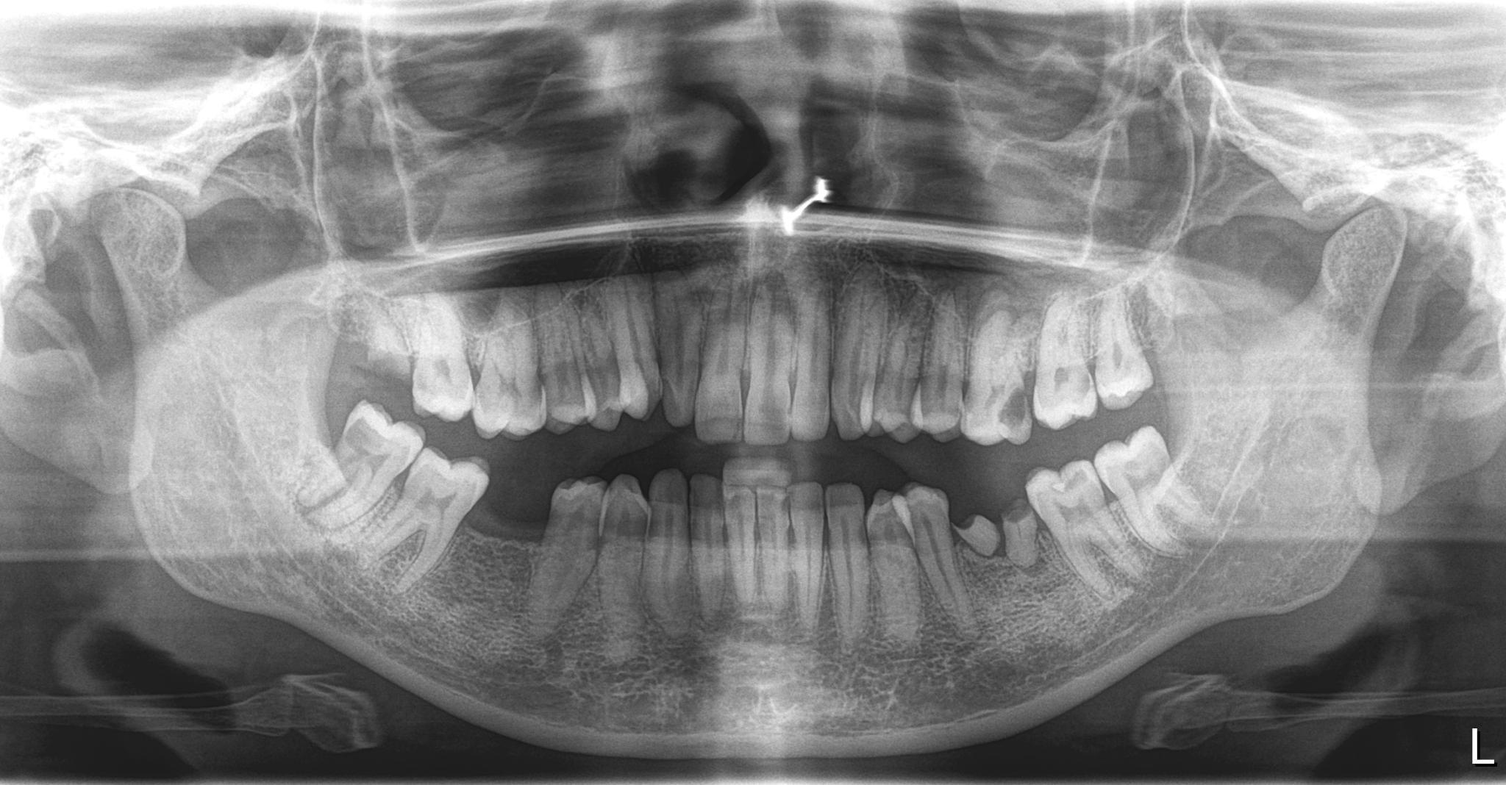Dental Caries: (586, 487, 638, 613), (849, 520, 891, 597), (658, 509, 688, 604), (351, 423, 398, 476), (996, 393, 1042, 438), (1048, 362, 1079, 396)
Missing Tooth: (482, 481, 552, 607)
Retained Root: (956, 481, 1041, 606), (331, 288, 413, 390)
